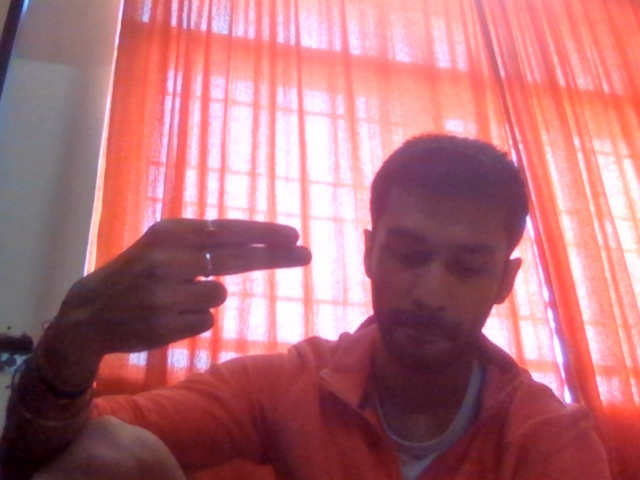H: (35, 195, 320, 396)
